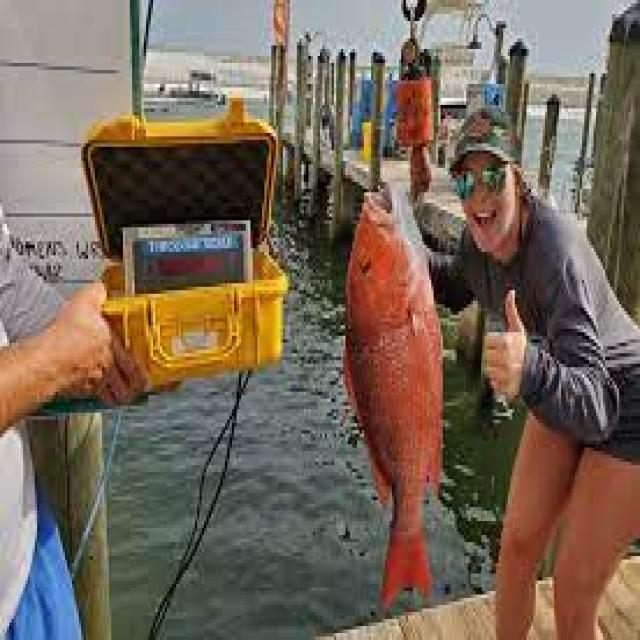northern-red-snapper: (342, 164, 454, 628)
